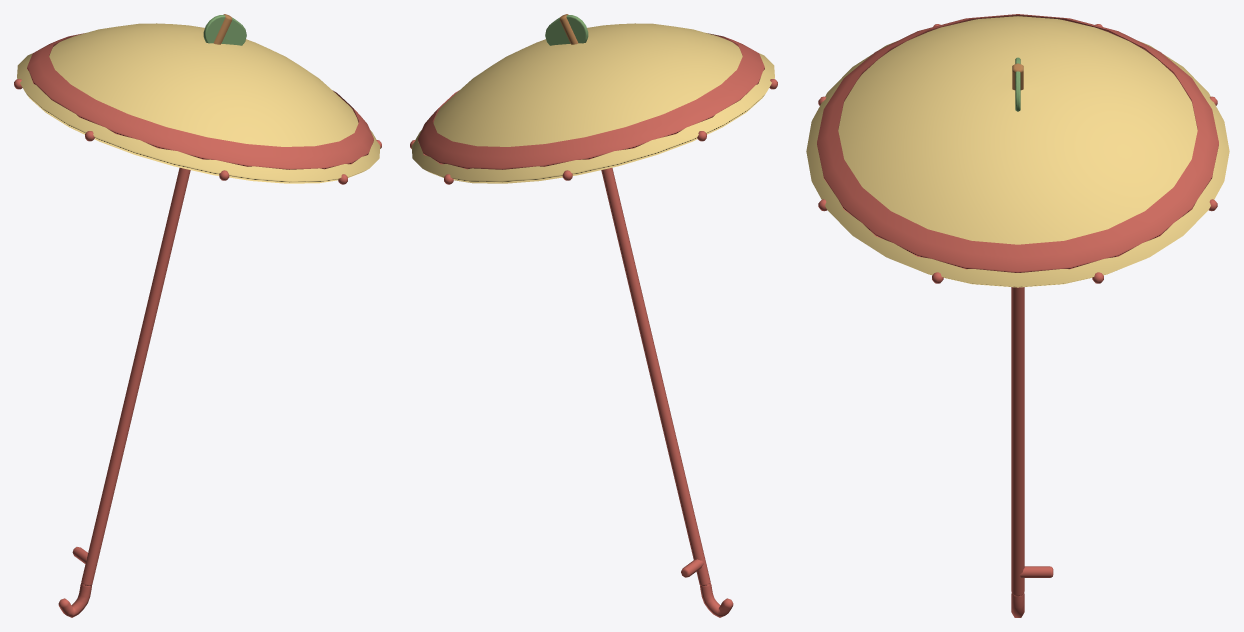
File: apple_umbrella.glb
3 views of the same model, side by side, from view 1: azimuth 30°, elevation 25°; view 2: azimuth 150°, elevation 25°; view 3: azimuth 270°, elevation 25° (orthographic). The views are drawn at different scales.
Visible parts, largest first — view 1: apple_umbrella_ArmR; view 2: apple_umbrella_ArmR; view 3: apple_umbrella_ArmR.
Boxes of the visible parts, box(x1,y1,x2,y2) form: apple_umbrella_ArmR: box(14, 14, 381, 617); apple_umbrella_ArmR: box(410, 14, 777, 617); apple_umbrella_ArmR: box(806, 14, 1229, 617).
Bounding box in the file's own units: 0.8703 × 1.5 × 0.9.
